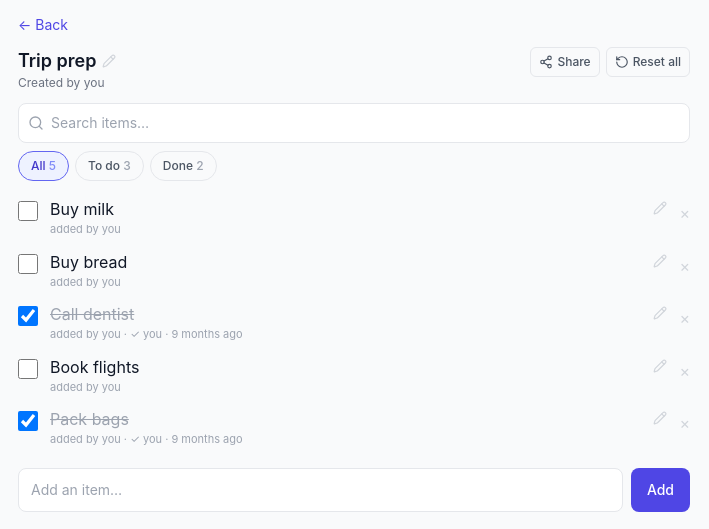
Test case: ChecklistDetail search & filter › shows an empty state when nothing matches
Step 1. Type "zzz" into the field named "Search checklist items" → (354, 123), box [18, 103, 690, 143]
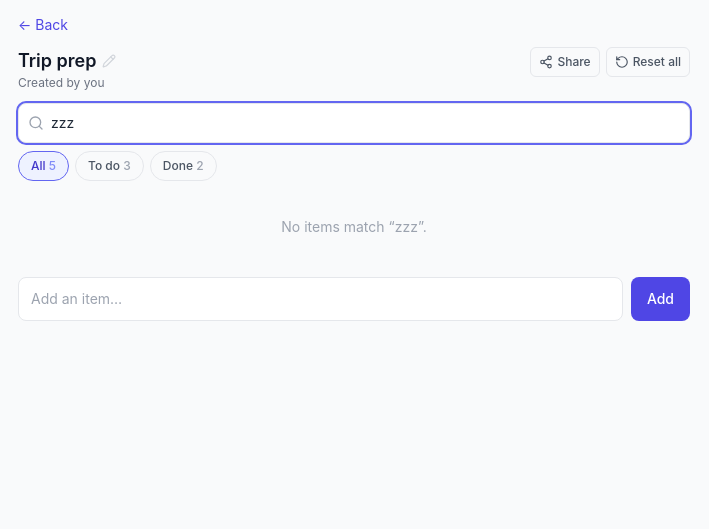
Result: the text "No items match “zzz”." is shown at [281, 218, 427, 235]
